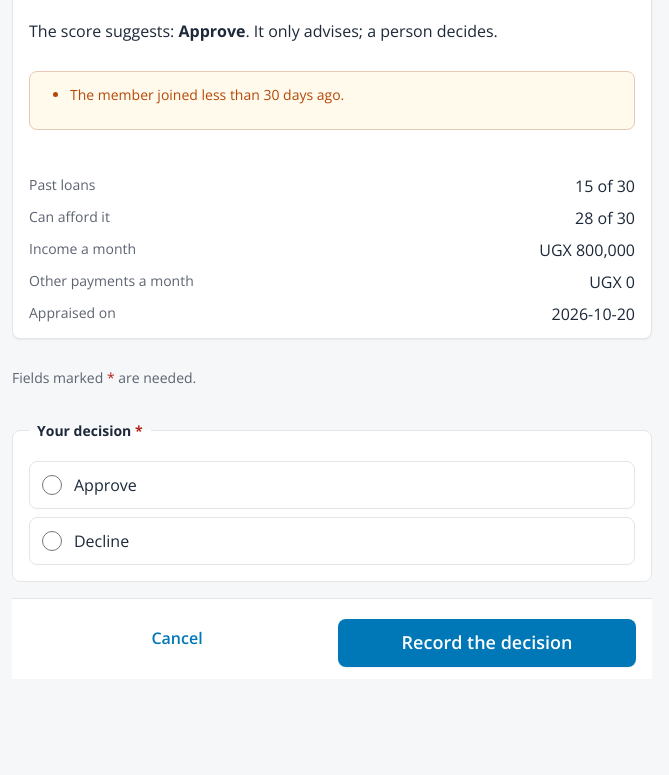
Test: deciding › shows a refusal from the server in plain words
(page scrolled)
Step 1. Click the radio button labelled "Approve" → (52,485), box x1=42 y1=473 x2=62 y2=497
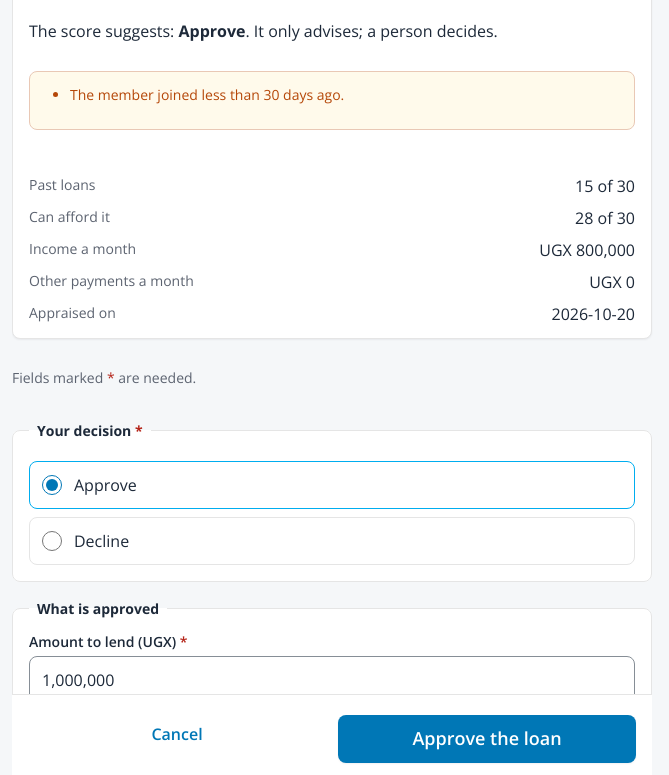
Step 2. Click the button "Approve the loan" → (487,739), box x1=338 y1=715 x2=636 y2=763
(page scrolled)
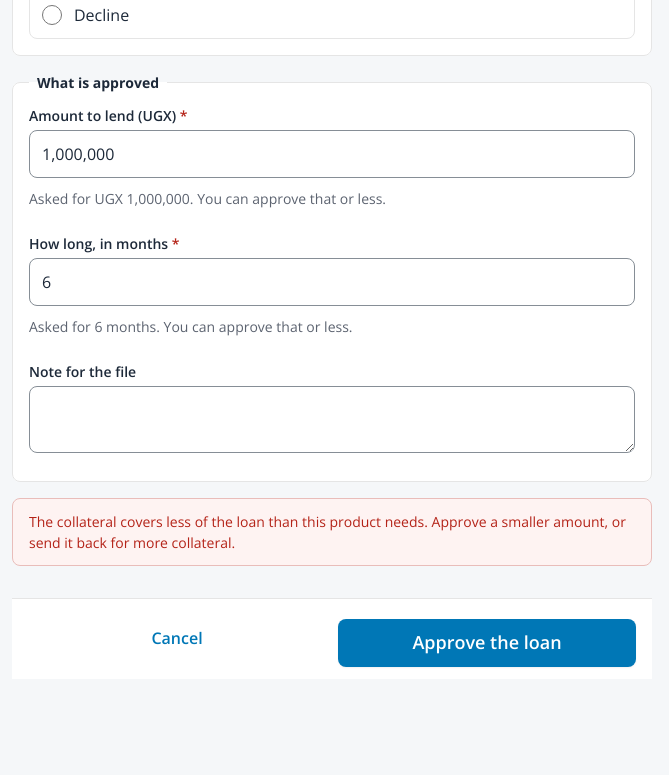
Expected: the text "covers less of the loan than this product needs" is shown, x1=29 y1=512 x2=626 y2=552
